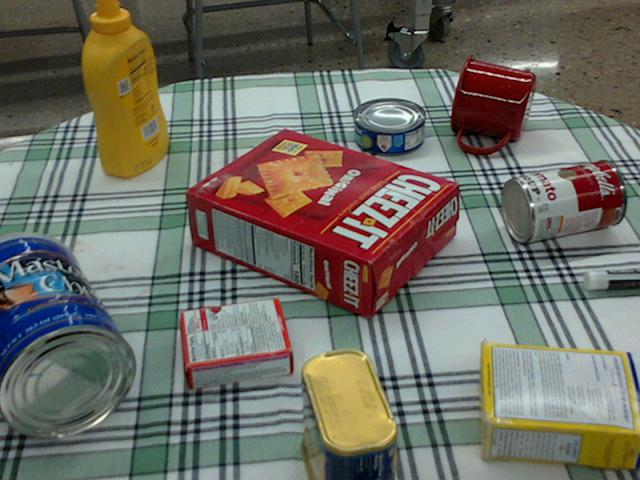cracker_box: (184, 127, 456, 318)
gelatin_box: (178, 298, 295, 385)
large_marker: (584, 269, 639, 288)
master_chef_can: (0, 232, 136, 438)
mug: (450, 54, 535, 153)
mustard_bottle: (83, 0, 167, 177)
potted_meat_can: (298, 346, 396, 479)
sugar_box: (477, 345, 639, 473)
tomato_soup_can: (501, 160, 625, 241)
tuna_fish_can: (353, 98, 425, 154)
